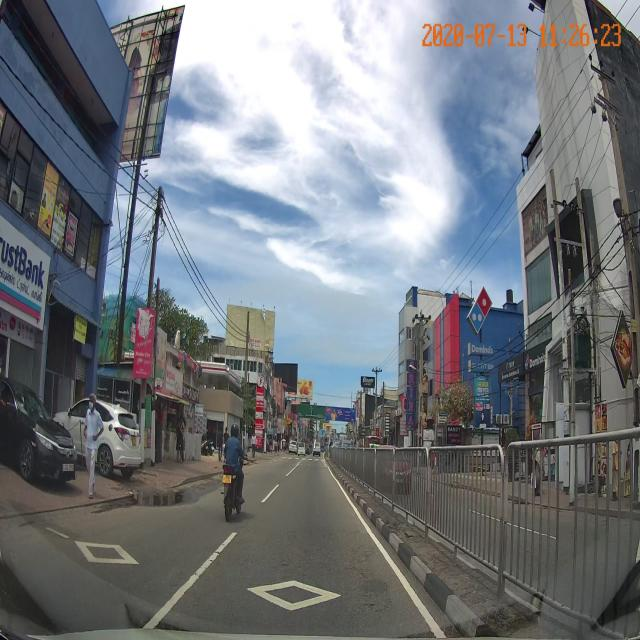diamond: (136, 547, 446, 640)
